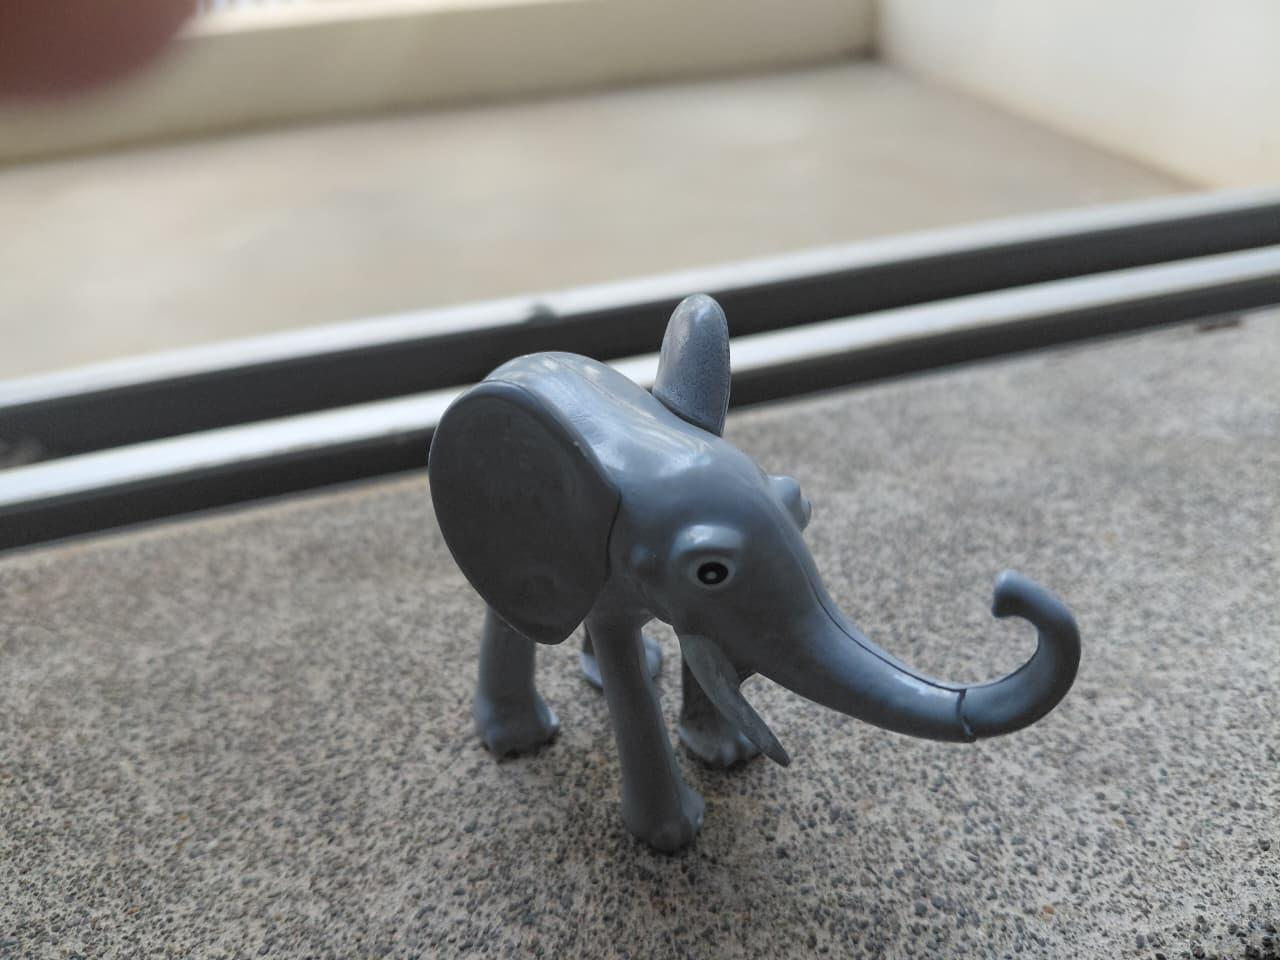elephant: (384, 284, 1125, 885)
